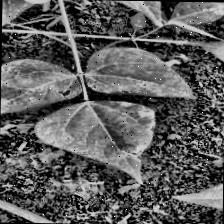ALS: (23, 96, 171, 177), (86, 45, 198, 100), (0, 57, 86, 118)
